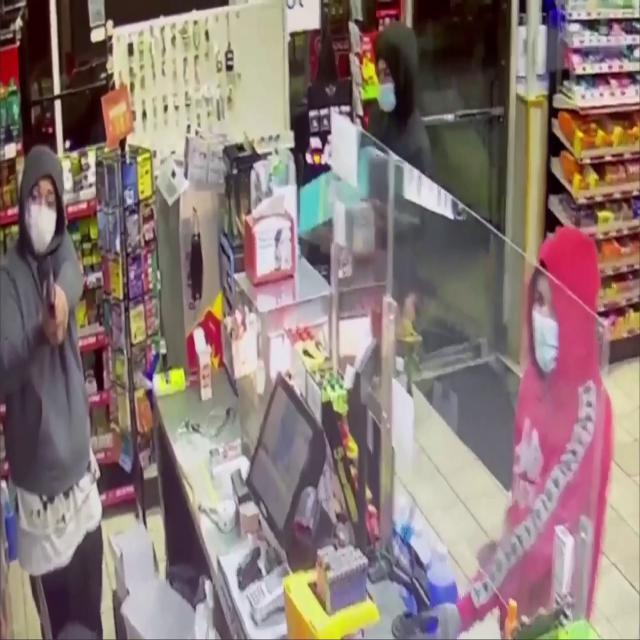gun: (44, 270, 58, 322)
